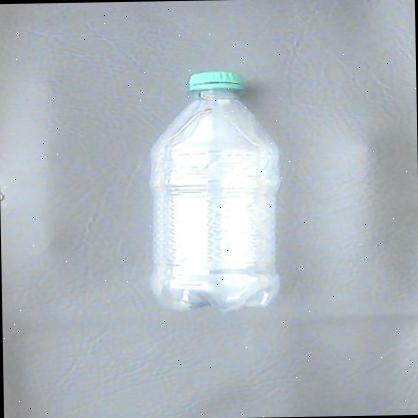bottle: (138, 65, 294, 318)
cap: (186, 70, 256, 99)
